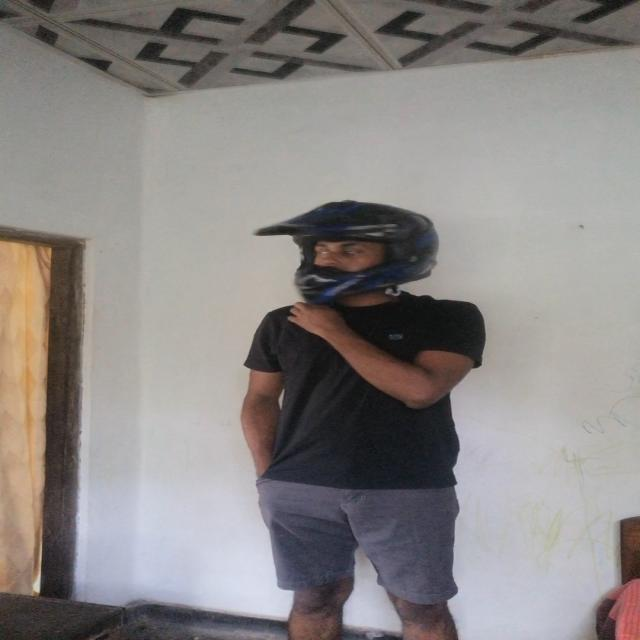Helmet_Wearer: (251, 199, 466, 315)
Person: (234, 192, 480, 640)
